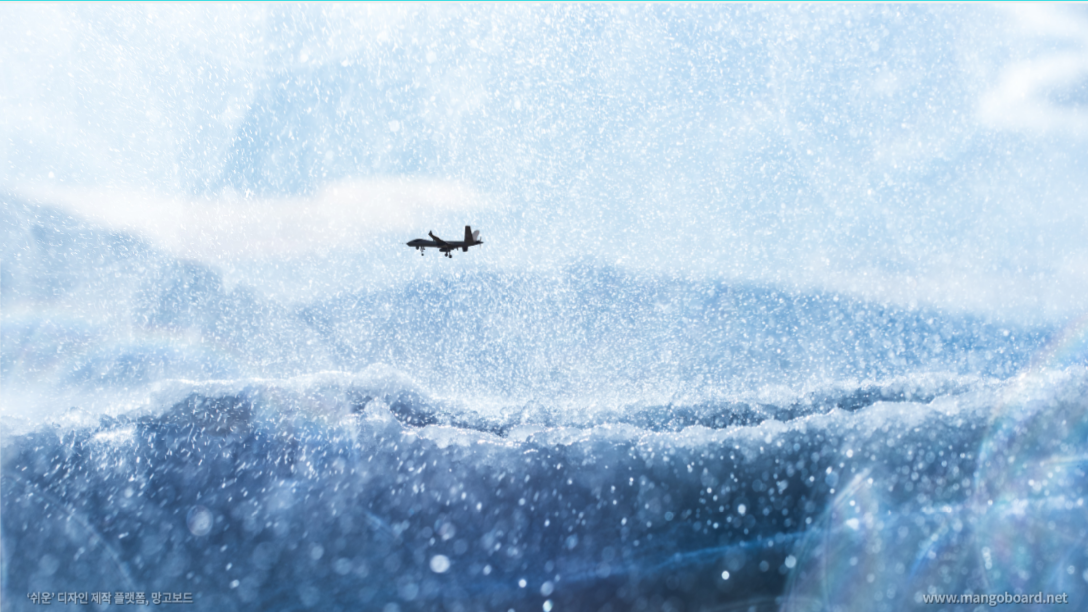military drone: (400, 225, 484, 258)
